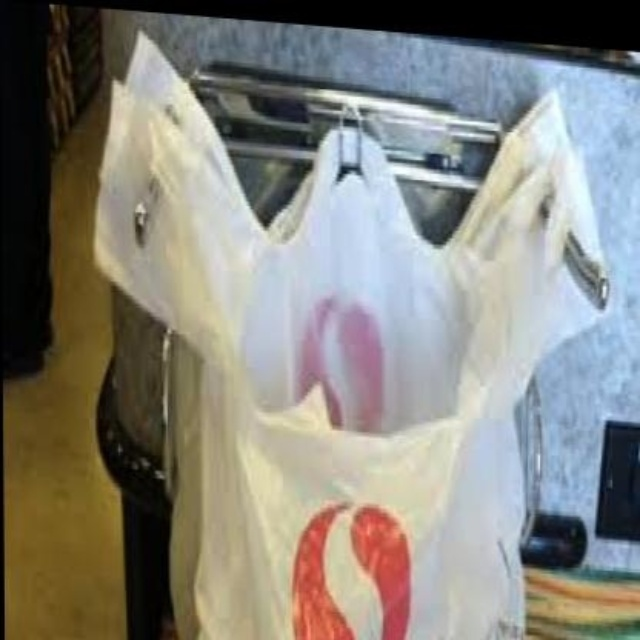trash: (97, 32, 605, 638)
